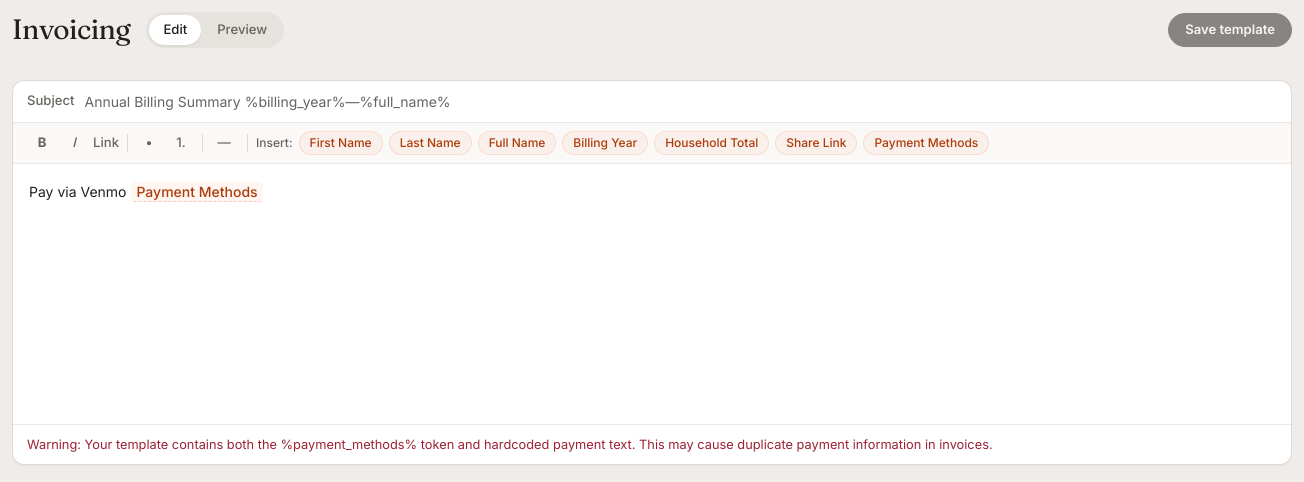
Test: InvoicingTab › shows member selector in preview tab
Click the button "Preview" at point(242, 30), box [203,15,281,45]
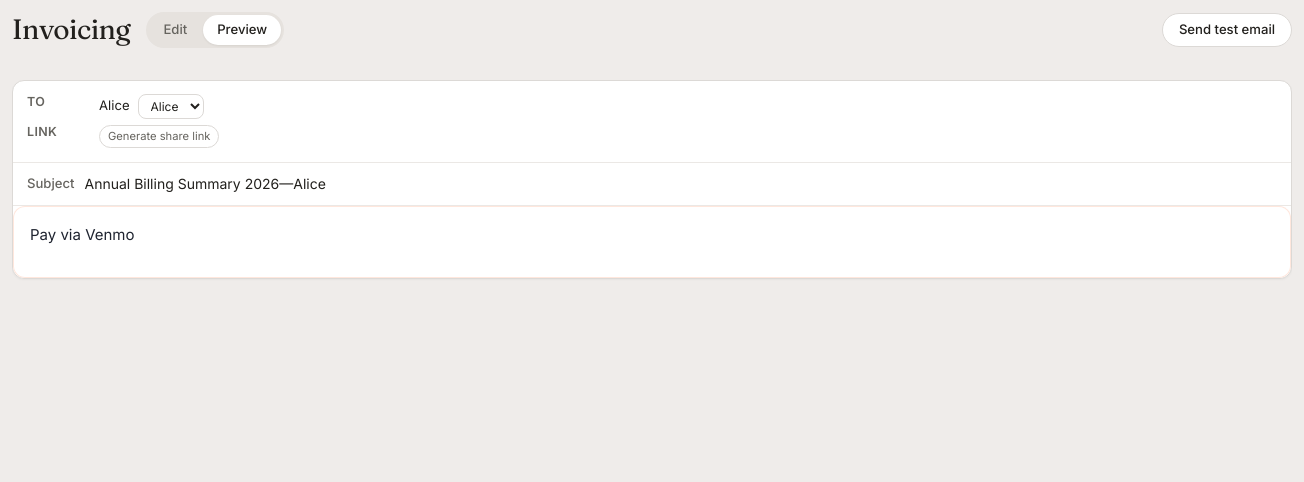
Result: the dropdown with class "template-preview-member-sel" is shown at [138,94,204,118]
